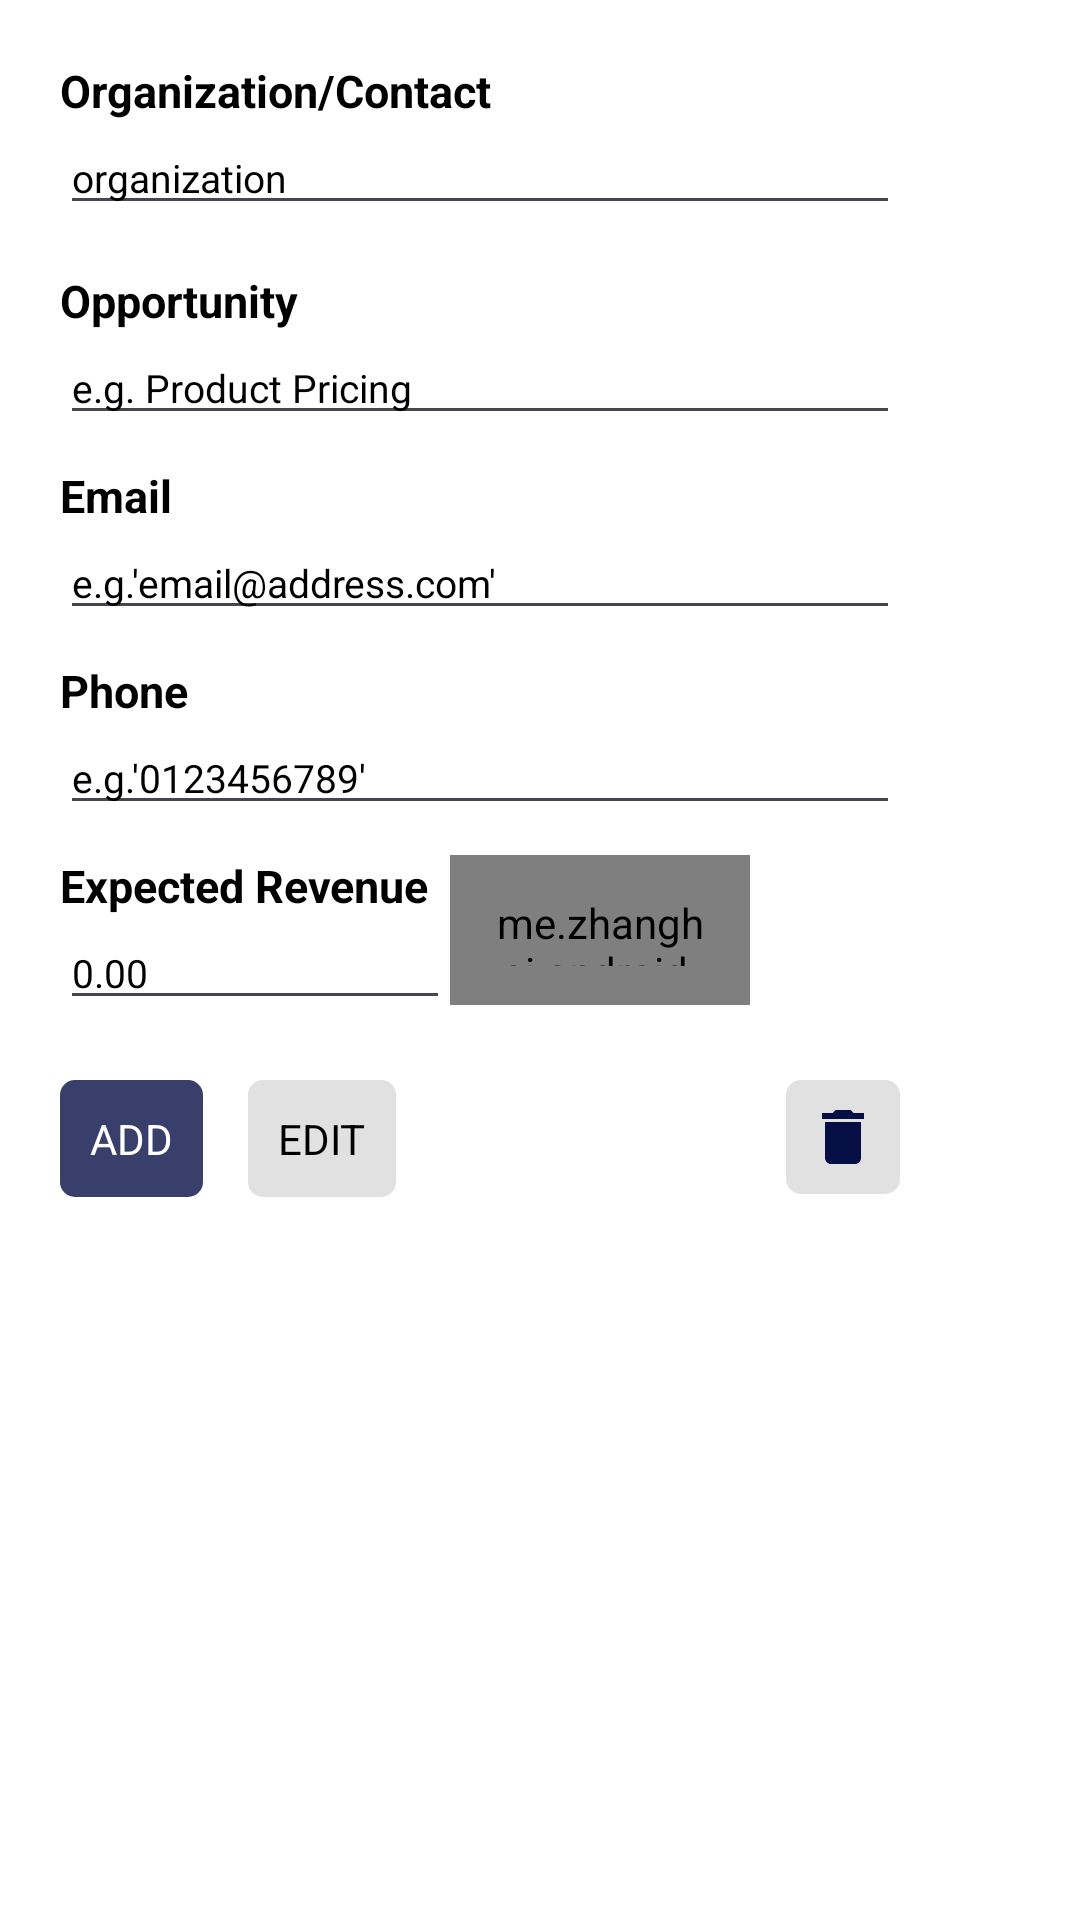

Icons on this 1080px x 1920px Android screen, each with its box as [x1,y1,x2,y2]:
delete: [822,1110,864,1164]
